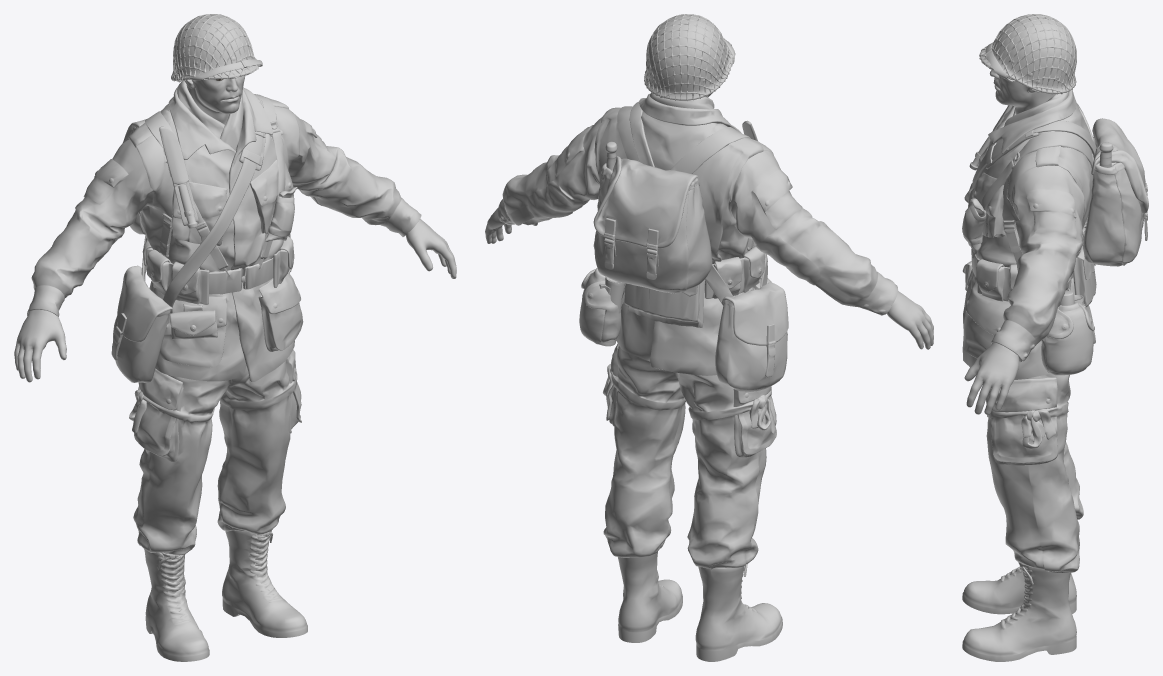
The model's file is BJ Blazkowicz (Soldier) +equipment.fbx.
3 views of the same model, side by side, from view 1: azimuth 30°, elevation 25°; view 2: azimuth 150°, elevation 25°; view 3: azimuth 270°, elevation 25° (orthographic).
Visible parts, largest first — view 1: Torso, Pants, Misc, Shoe_left, Shoe_right, Helmet, Hands, Head; view 2: Torso, Misc, Pants, Helmet, Shoe_right, Shoe_left, Hands; view 3: Torso, Misc, Pants, Shoe_left, Helmet, Hands, Shoe_right, Head.
Part boxes in pixels (box(x1,y1,x2,y2)): Torso: box(27, 80, 421, 381); Pants: box(129, 349, 301, 554); Misc: box(111, 96, 297, 382); Shoe_left: box(222, 530, 307, 637); Shoe_right: box(144, 549, 209, 661); Helmet: box(171, 14, 262, 82); Hands: box(14, 218, 456, 382); Head: box(184, 75, 245, 124); Torso: box(498, 92, 897, 375); Misc: box(579, 101, 788, 391); Pants: box(603, 343, 776, 569); Helmet: box(644, 14, 735, 100); Shoe_right: box(695, 564, 782, 661); Shoe_left: box(618, 552, 682, 642); Hands: box(485, 208, 933, 349); Torso: box(962, 89, 1095, 378); Misc: box(962, 105, 1148, 375); Pants: box(986, 373, 1083, 572); Shoe_left: box(962, 562, 1076, 661); Helmet: box(979, 14, 1076, 94); Hands: box(964, 183, 1019, 414); Shoe_right: box(962, 566, 1076, 614); Head: box(989, 70, 1055, 114).
Bounding box in the file's own units: 141 × 189 × 52.42.
